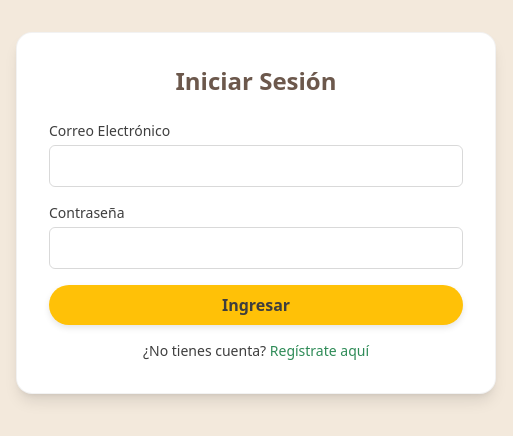
LoginPage › muestra mensaje de error si las credenciales son incorrectas
In the field labelled "Correo Electrónico": (256, 166) 49,145 -> 463,187, type "wrong@test.com"
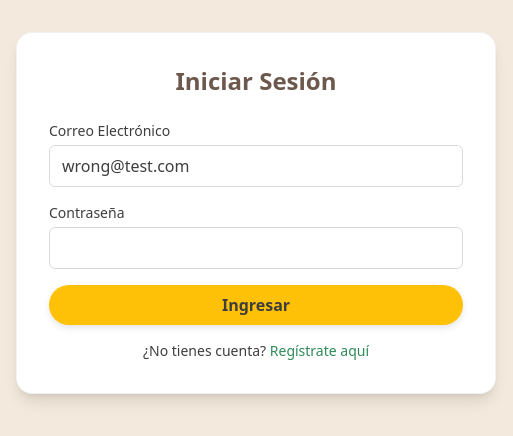
In the password field labelled "Contraseña": (256, 248) 49,227 -> 463,269, type "wrongpass"
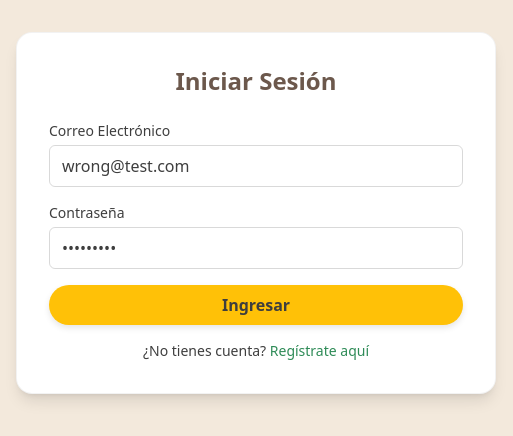
Submit the form from the button "Ingresar", box 49,285 -> 463,325
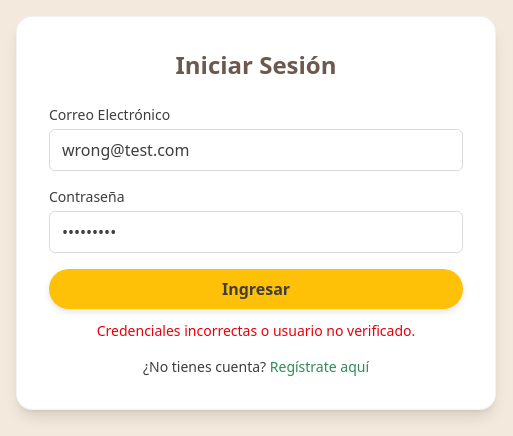
Result: the text "Credenciales incorrectas o usuario no verificado." is shown at 97,321 -> 415,340
